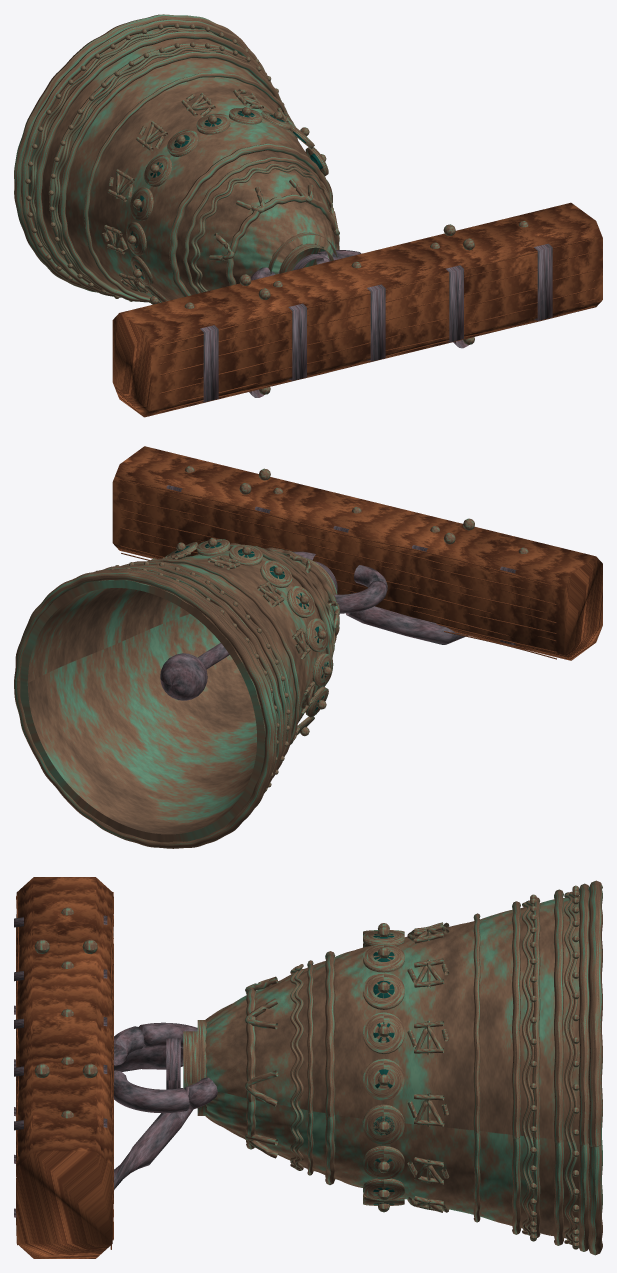
File: SM_BlackBell_Hero_v2.obj
3 views of the same model, one above another, from view 1: azimuth 30°, elevation 25°; view 2: azimuth 150°, elevation 25°; view 3: azimuth 270°, elevation 25° (orthographic). The views are drawn at different scales.
Visible parts, largest first — view 1: SM_BlackBell_Hero_v2; view 2: SM_BlackBell_Hero_v2; view 3: SM_BlackBell_Hero_v2.
Boxes of the visible parts, x1,y1,x2,y2 form: SM_BlackBell_Hero_v2: (14, 14, 602, 417); SM_BlackBell_Hero_v2: (14, 446, 602, 848); SM_BlackBell_Hero_v2: (14, 877, 602, 1258).
Bounding box in the file's own units: 230 × 132 × 209.
11 materials, 10 textured.
